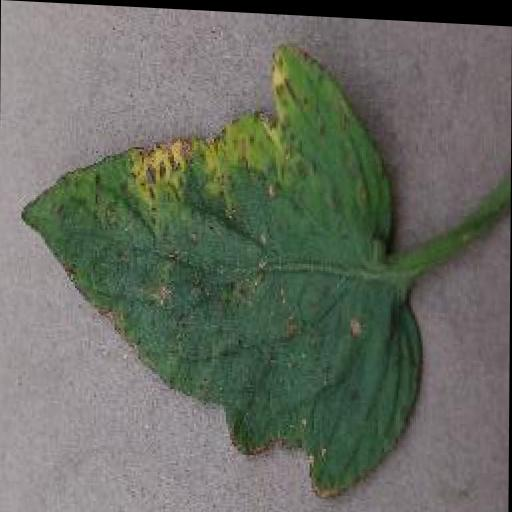Bacterial Spot: (15, 26, 427, 505)
